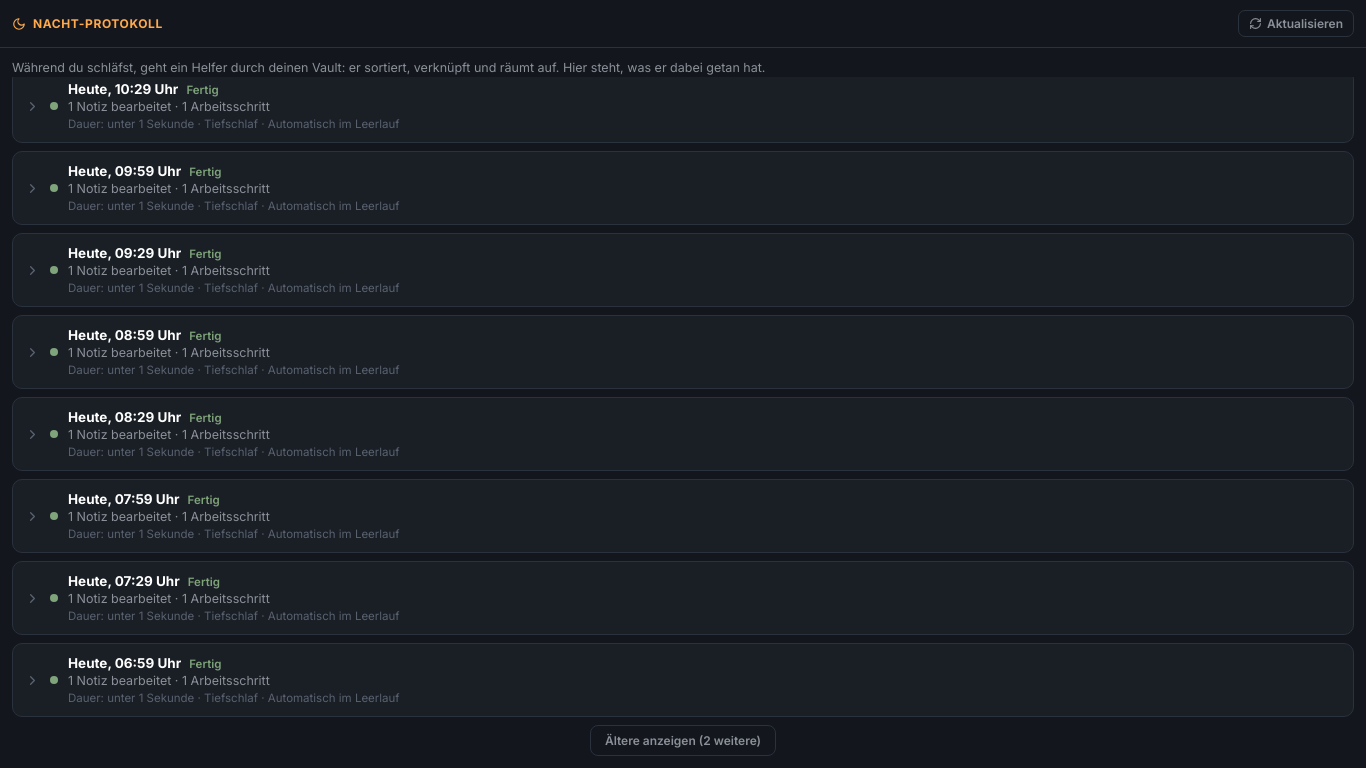
Test case: SleepAgentProtocol › bündelt Läufe nach Tag und blendet ältere erst auf Klick ein
The width and height of the screenshot is (1366, 768).
(page scrolled)
What coordinates should you click on to do the following:
click the button "Ältere anzeigen (2 weitere)"
I would click on:
 (683, 741)
Its box is [590,725,776,756].
(page scrolled)
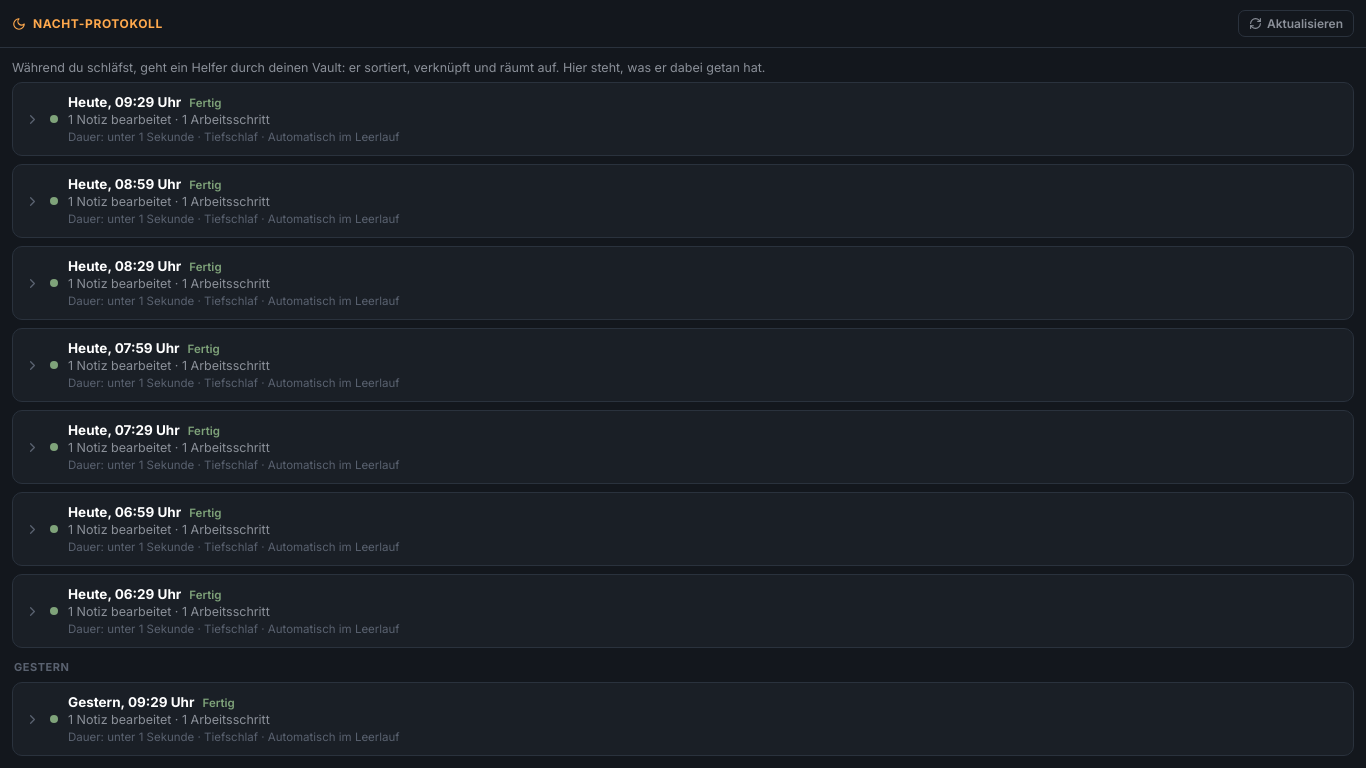
Expected: the text "Gestern" is shown, [14,660,70,674]
Expected: the button "Ältere anzeigen" is gone
